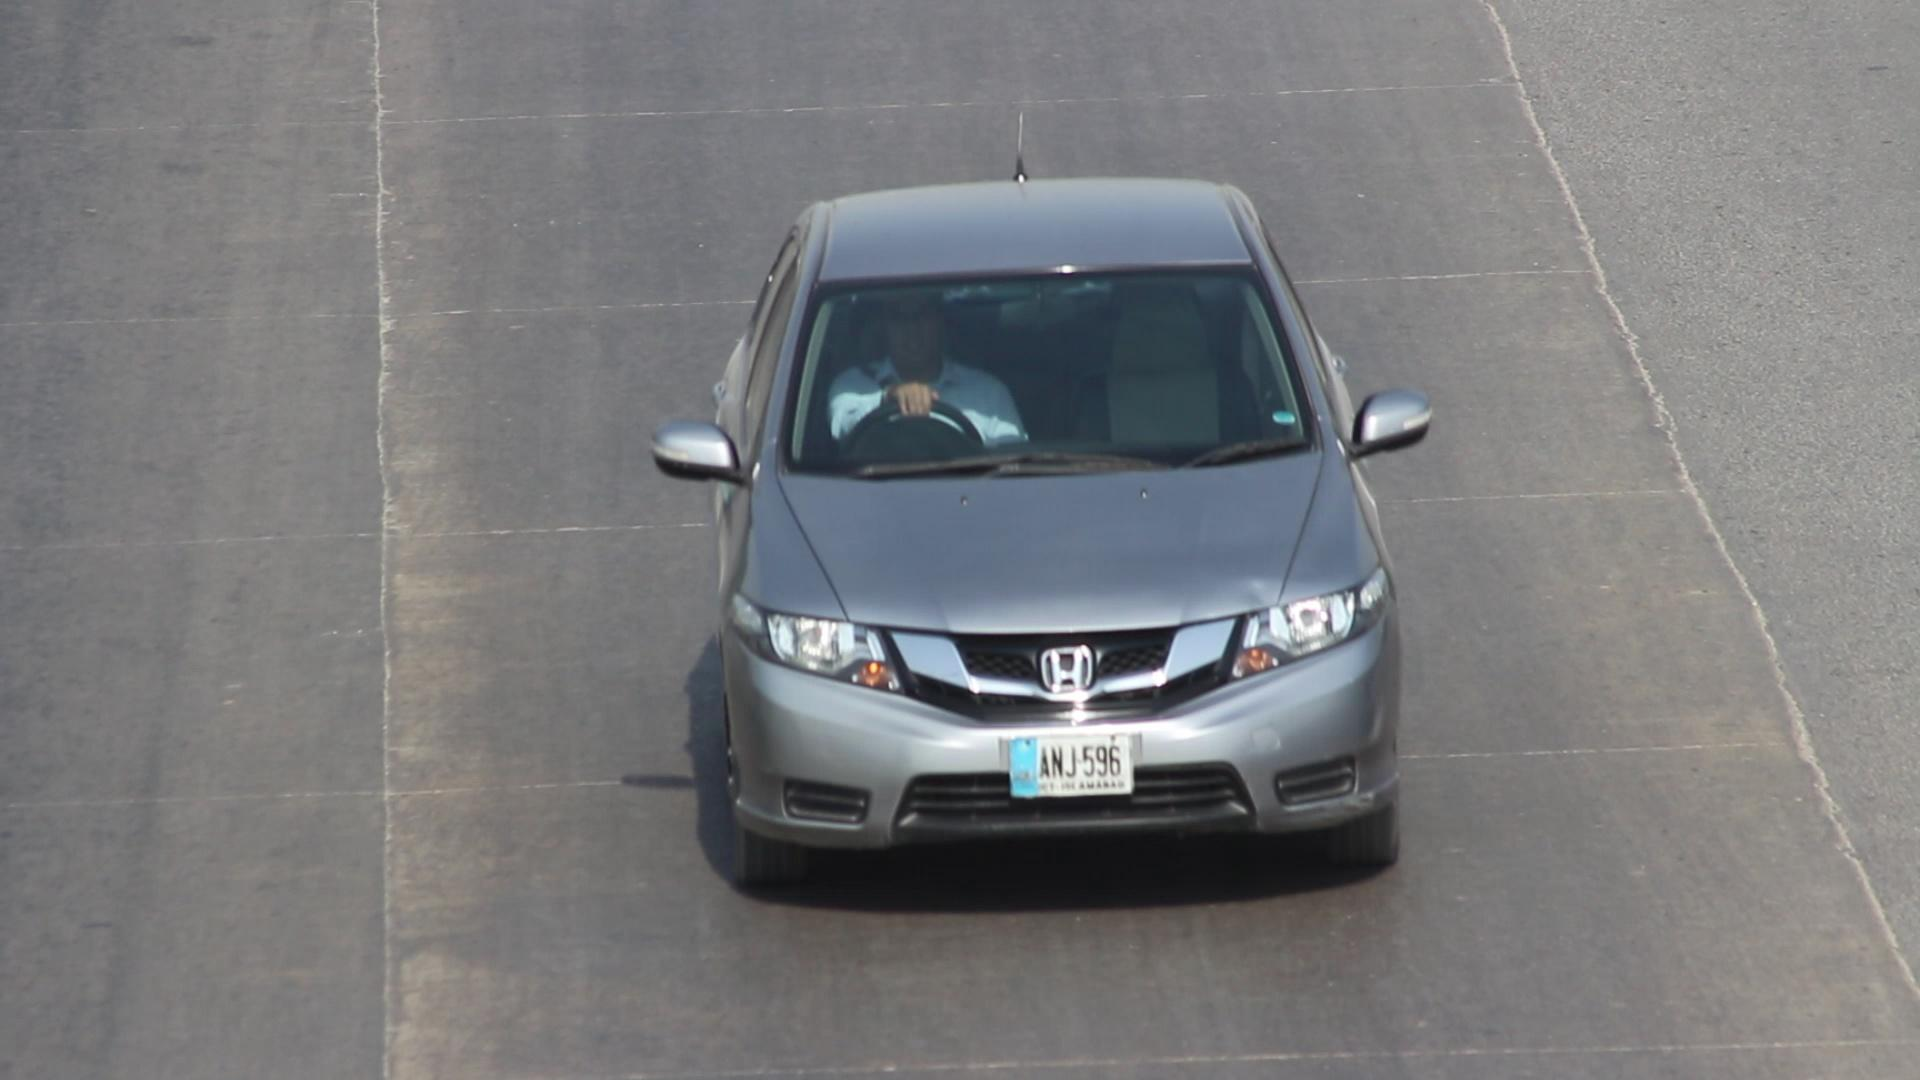windshield: (770, 233, 1350, 493)
